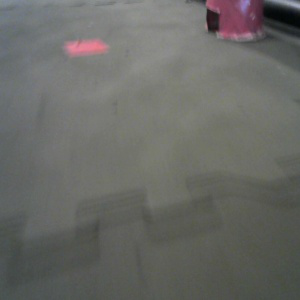Right: (203, 1, 266, 42)
